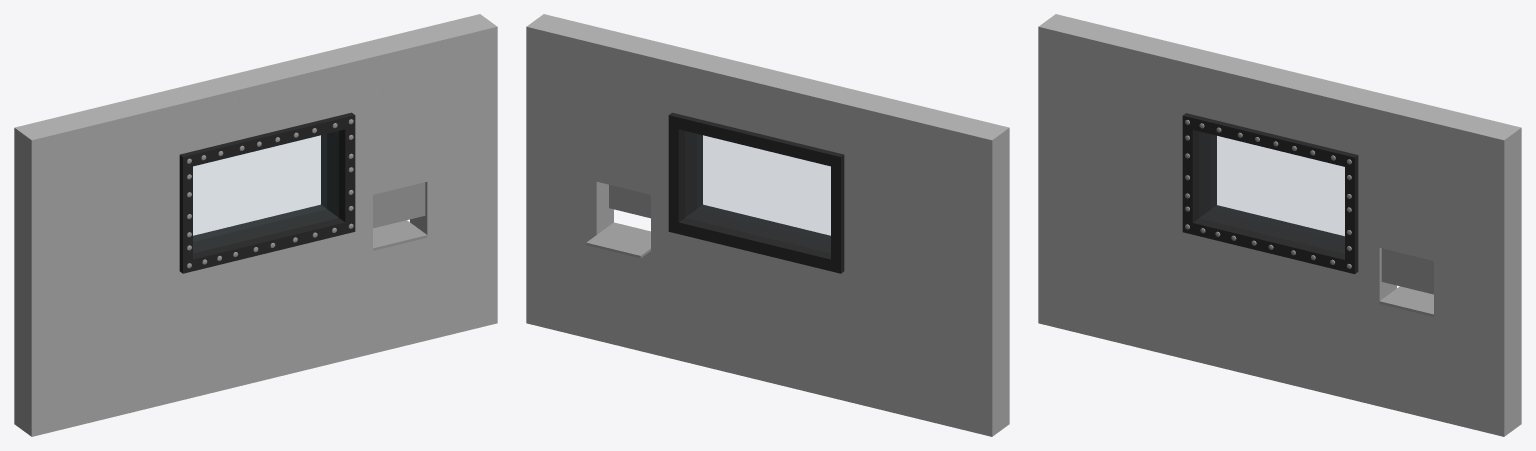
Rendered from Wall_Export_01.fbx.
3 renders of one model, left to right at view 1: azimuth 30°, elevation 25°; view 2: azimuth 150°, elevation 25°; view 3: azimuth 330°, elevation 25°, orthographic.
Parts seen in each view (by area): view 1: Wall_Main, Glass_Cover, Glass_Main, Food_Teleporter_Door, DIsh_Teleporter_Plate, Glass_Screws; view 2: Wall_Main, Glass_Cover, Glass_Main, DIsh_Teleporter_Plate, Food_Teleporter_Door; view 3: Wall_Main, Glass_Cover, Glass_Main, Food_Teleporter_Door, DIsh_Teleporter_Plate, Glass_Screws.
Boxes of the visible parts, x1,y1,x2,y2 form: Wall_Main: [14, 14, 497, 436]; Glass_Cover: [179, 112, 355, 273]; Glass_Main: [193, 134, 326, 241]; Food_Teleporter_Door: [373, 182, 425, 228]; DIsh_Teleporter_Plate: [373, 220, 427, 250]; Glass_Screws: [187, 119, 353, 268]; Wall_Main: [526, 14, 1009, 436]; Glass_Cover: [668, 112, 844, 273]; Glass_Main: [697, 134, 830, 241]; DIsh_Teleporter_Plate: [586, 222, 650, 258]; Food_Teleporter_Door: [609, 184, 650, 218]; Wall_Main: [1038, 14, 1521, 436]; Glass_Cover: [1182, 113, 1358, 274]; Glass_Main: [1211, 135, 1344, 241]; Food_Teleporter_Door: [1381, 248, 1433, 294]; DIsh_Teleporter_Plate: [1379, 286, 1433, 316]; Glass_Screws: [1185, 120, 1351, 268].
Size of the model in its own units: 492 by 299 by 59.34.
